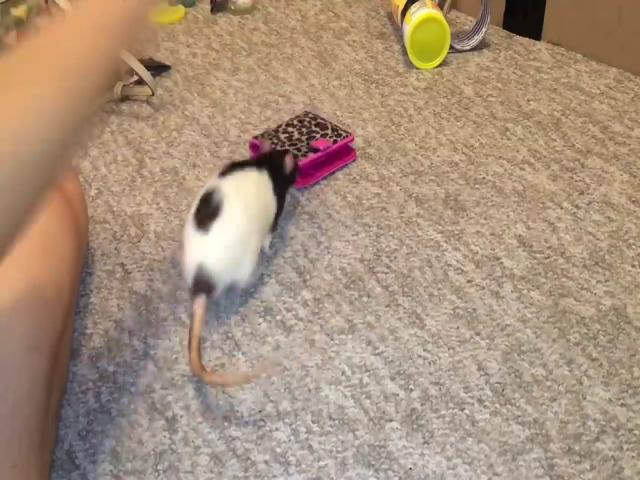Tikus: (182, 142, 302, 388)
